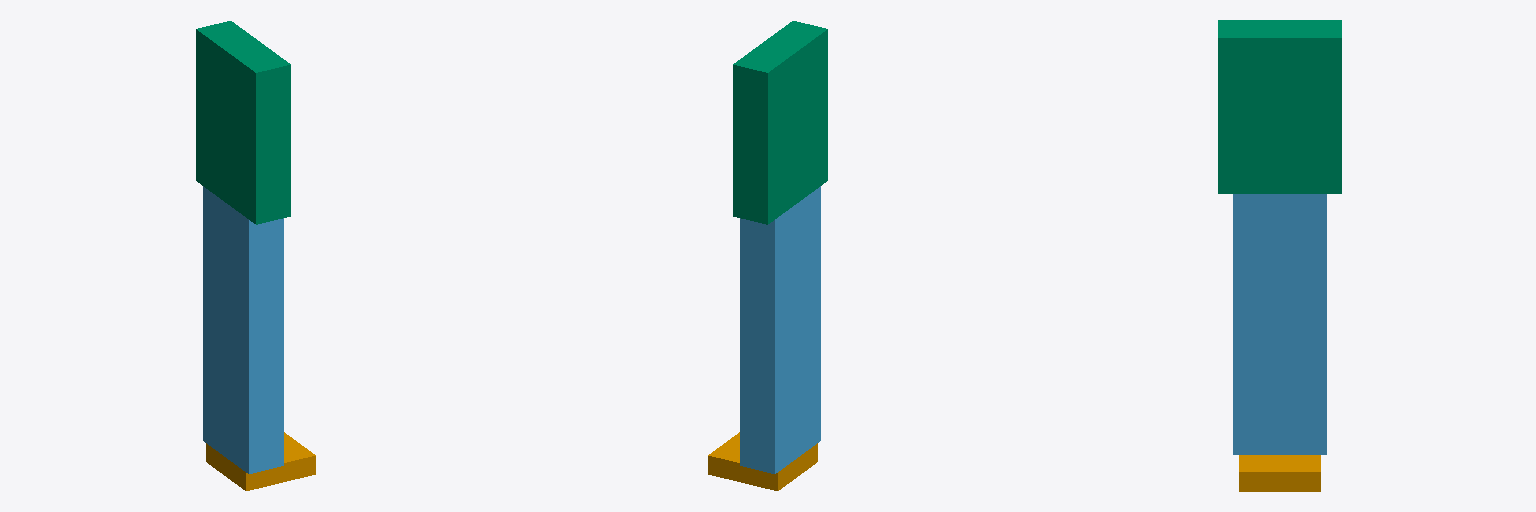
The robot description file, URDF, robot "threeLinkHuman_subject10":
<robot name="threeLinkHuman_subject10">
    <link name="foot">
        <inertial>
            <mass value="4.8692"/>
            <origin xyz="0 0 0.030902" rpy="0 0 0" />
            <inertia ixx="0.024317" iyy="0.024396" izz="0.045612" ixy="0" ixz="0" iyz="0"/>
        </inertial>

        <visual>
			<origin xyz="0 0 0.030902" rpy="0 0 0" />
            <geometry>
                <box size="0.23728 0.23687 0.061803"/>
            </geometry>
        </visual>

        <collision>
			<origin xyz="0 0 0.030902" rpy="0 0 0" />
            <geometry>
                <box size="0.23728 0.23687 0.061803"/>
            </geometry>
        </collision>
    </link>
    
    <link name="leg">
        <inertial>
            <mass value="36.8554"/>
            <origin xyz="0 0 0.41348" rpy="0 0 0" />
            <inertia ixx="2.3209" iyy="2.1436" izz="0.2638" ixy="0" ixz="0" iyz="0"/>
        </inertial>

        <visual>
            <origin xyz="0 0 0.41348" rpy="0 0 0" />
            <geometry>
                <box size="0.11864 0.26798 0.82696"/>
            </geometry>
        </visual>

        <collision>
            <origin xyz="0 0 0.41348" rpy="0 0 0" />
            <geometry>
                <box size="0.11864 0.26798 0.82696"/>
            </geometry>
        </collision>
    </link>
    
    <link name="torso">
        <inertial>
            <mass value="29.0139"/>
            <origin xyz="0 0 0.24646" rpy="0 0 0" />
            <inertia ixx="0.89034" iyy="0.6215" izz="0.33691" ixy="0" ixz="0" iyz="0"/>
        </inertial>

        <visual>
            <origin xyz="0 0 0.24646" rpy="0 0 0" />
            <geometry>
                <box size="0.11864 0.35393 0.49292"/>
            </geometry>
        </visual>

        <collision>
            <origin xyz="0 0 0.24646" rpy="0 0 0" />
            <geometry>
                <box size="0.11864 0.35393 0.49292"/>
            </geometry>
        </collision>
    </link>
        
    <joint name="ankle" type="revolute">
        <origin xyz="-0.05932 0 0.061803" rpy="0 0 0"/>
        <parent link="foot"/>
        <child link="leg"/>
        <dynamics damping="0.1" friction="0.0"/>
        <limit effort="30" velocity="1.0" lower="-10.0" upper="10.0" />
        <axis xyz="0 1 0" />
    </joint>
    
    <joint name="hip" type="revolute">
        <origin xyz="0 0 0.82696" rpy="0 0 0"/>
        <parent link="leg"/>
        <child link="torso"/>
        <dynamics damping="0.1" friction="0.0"/>
        <limit effort="30" velocity="1.0" lower="-10.0" upper="10.0" />
        <axis xyz="0 1 0" />
    </joint>

</robot>

--- Facts derived from the render (not from the file) ---
3 views of the same robot in one strip: view 1: azimuth 30°, elevation 25°; view 2: azimuth 150°, elevation 25°; view 3: azimuth 270°, elevation 25° (orthographic).
Model threeLinkHuman_subject10 with 3 links and 2 joints (2 revolute), rooted at foot, posed every joint at zero.
Visible links, largest first — view 1: leg, torso, foot; view 2: leg, torso, foot; view 3: leg, torso, foot.
Boxes of the visible links, x1,y1,x2,y2 form: leg: [203, 186, 283, 473]; torso: [196, 21, 290, 224]; foot: [206, 432, 315, 490]; leg: [740, 186, 820, 473]; torso: [733, 21, 827, 224]; foot: [708, 432, 817, 490]; leg: [1233, 194, 1326, 454]; torso: [1218, 20, 1341, 193]; foot: [1239, 455, 1320, 491].
Bounding box of the posed robot: 0.2373 × 0.3539 × 1.38 m (x, y, z).
Geometry: primitives only (box / cylinder / sphere), no mesh files.
